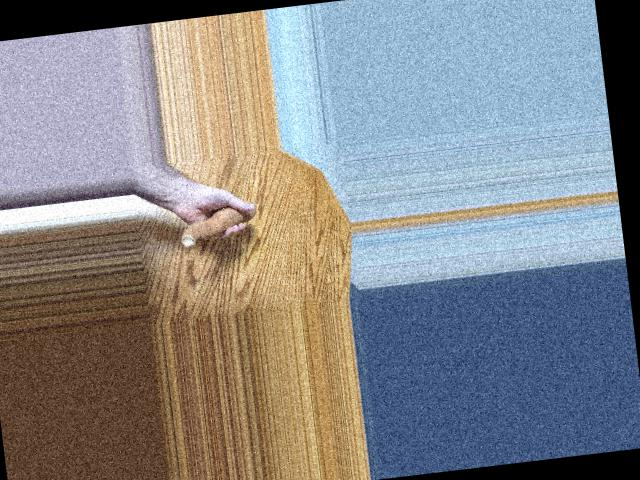sweet_potato: (172, 203, 263, 247)
